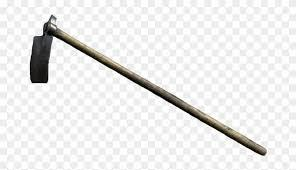HOUE: (22, 8, 274, 170)
